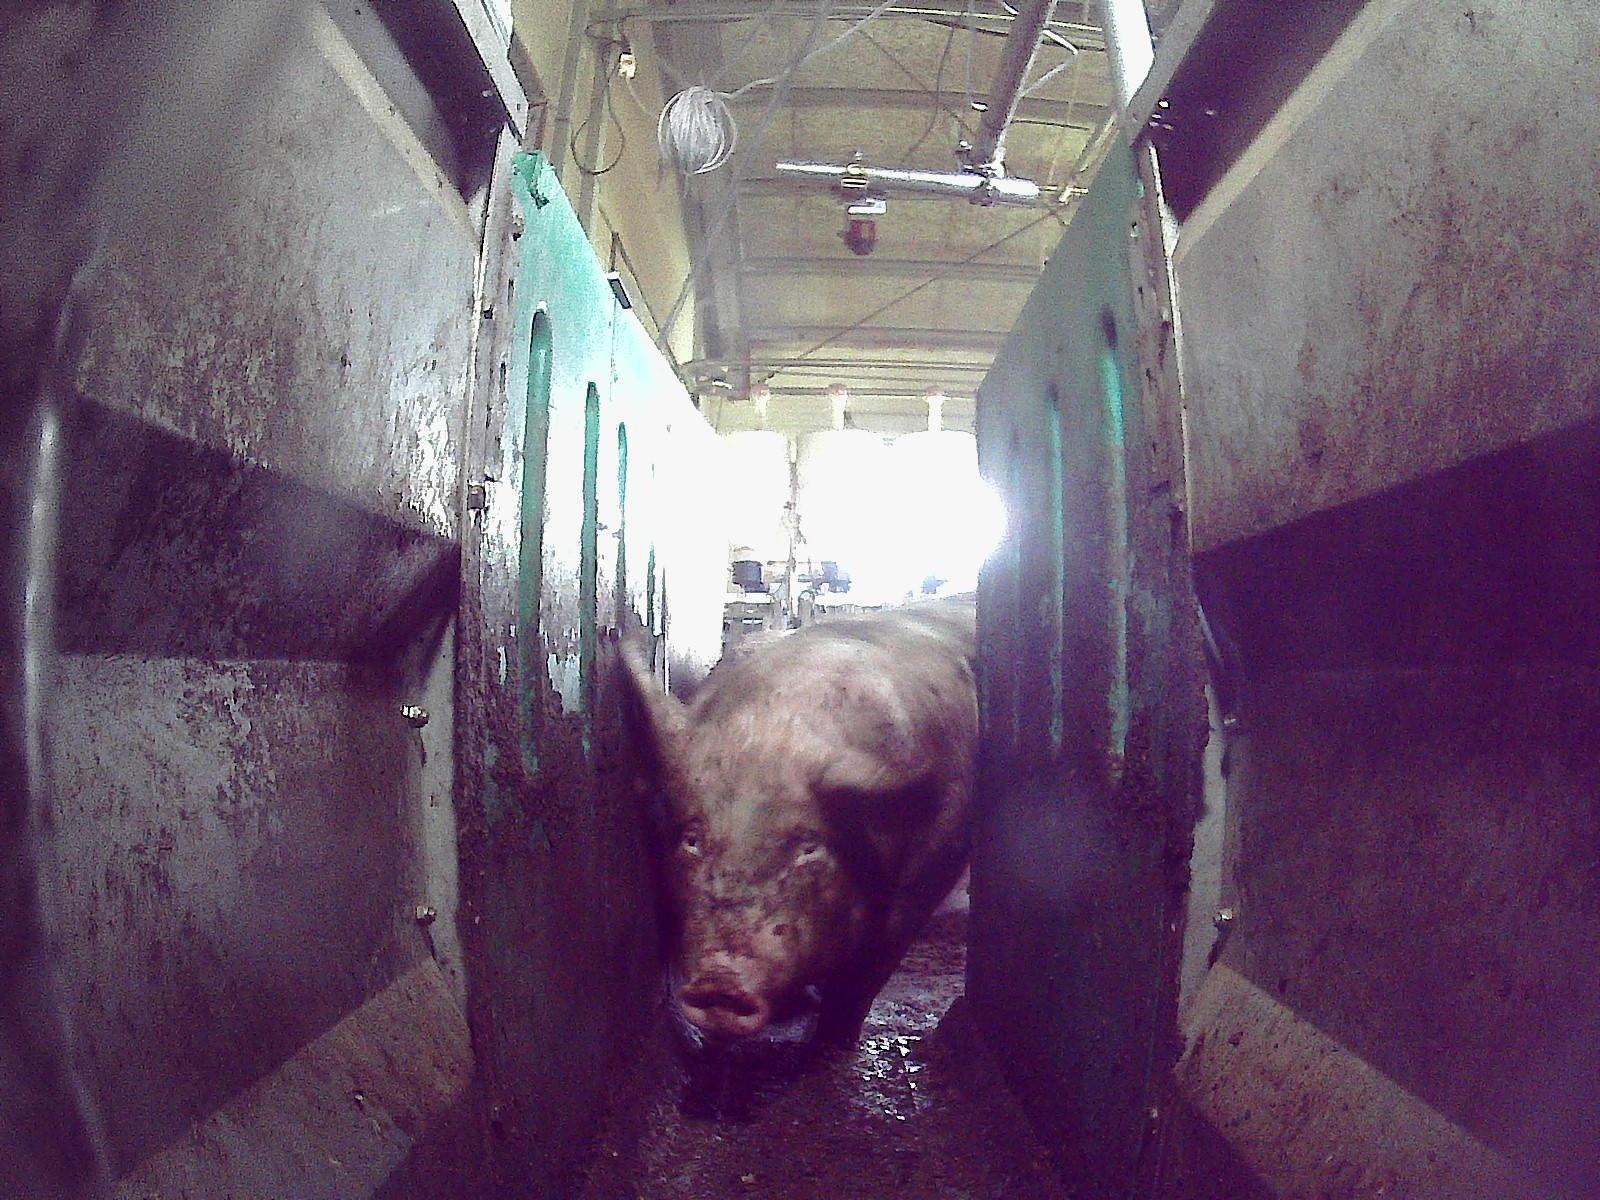Face: (664, 743, 860, 1035)
